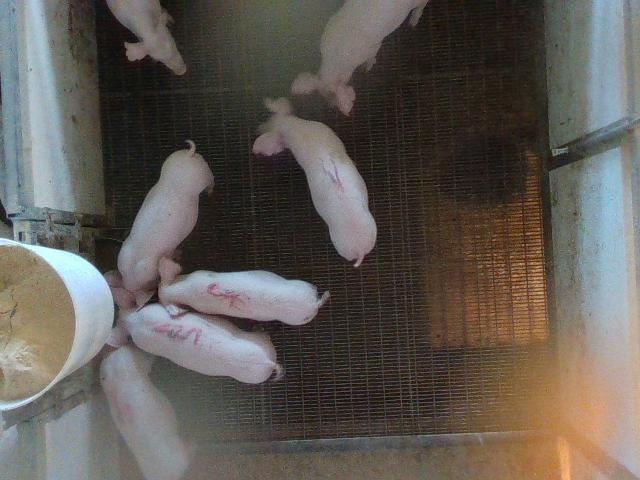pig-1: (252, 98, 376, 266)
pig-3: (108, 288, 282, 383)
pig-4: (100, 345, 189, 479)
pig-5: (159, 256, 330, 324)
